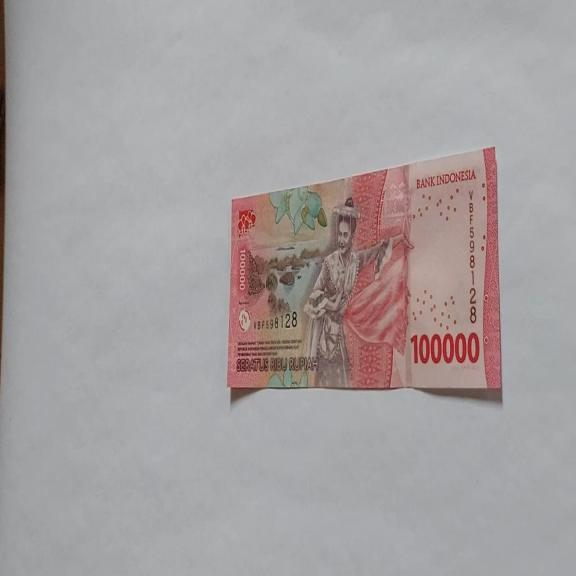Kertas: (226, 144, 502, 398), (410, 330, 480, 366)
